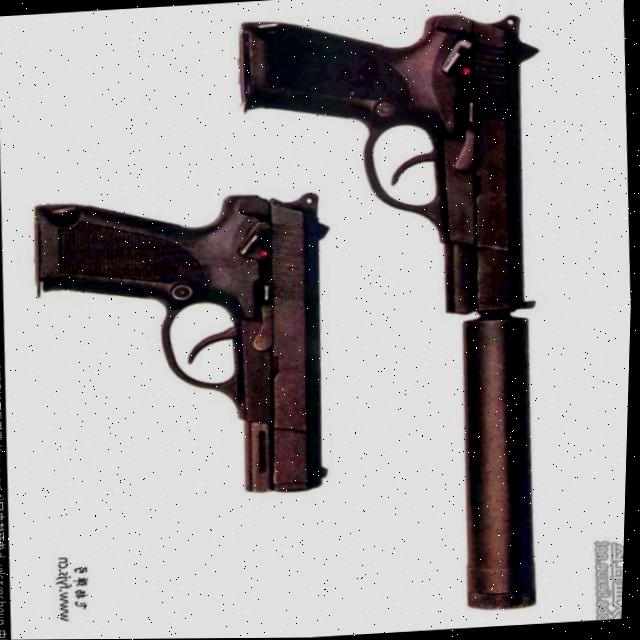pistol: (220, 4, 576, 631), (24, 186, 341, 511)
